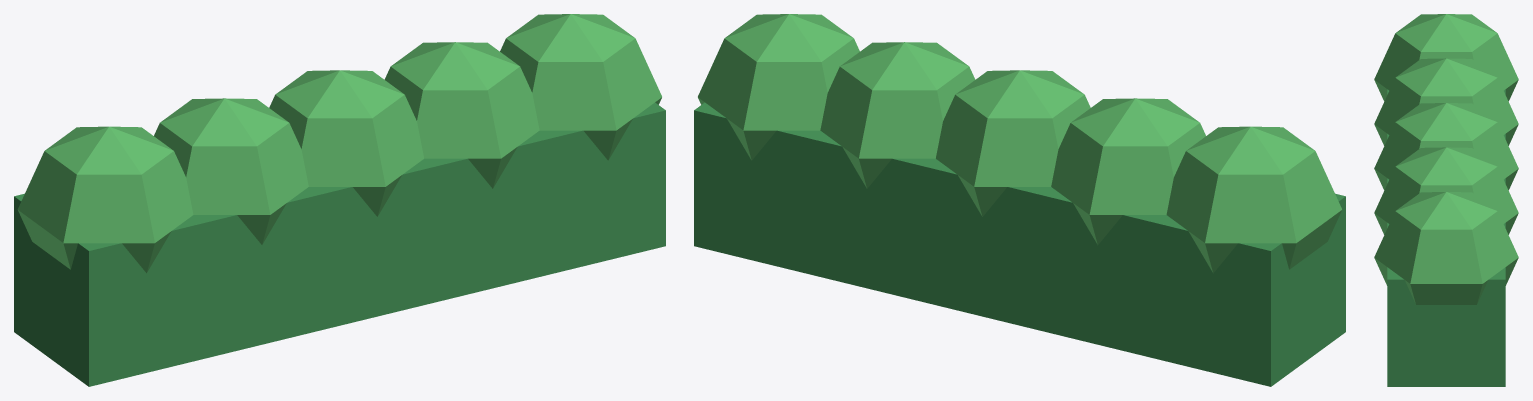
The model's file is EN_Hedge.glb.
The picture shows the model from 3 angles, left to right: view 1: azimuth 30°, elevation 25°; view 2: azimuth 150°, elevation 25°; view 3: azimuth 270°, elevation 25°; orthographic projection. The views are drawn at different scales.
Visible parts, largest first — view 1: EN_Hedge; view 2: EN_Hedge; view 3: EN_Hedge.
Part boxes in pixels (x1,y1,x2,y2): EN_Hedge: [14, 14, 665, 386]; EN_Hedge: [694, 14, 1345, 386]; EN_Hedge: [1374, 14, 1518, 386].
Size of the model in its own units: 4.15 by 1.45 by 1.1.
